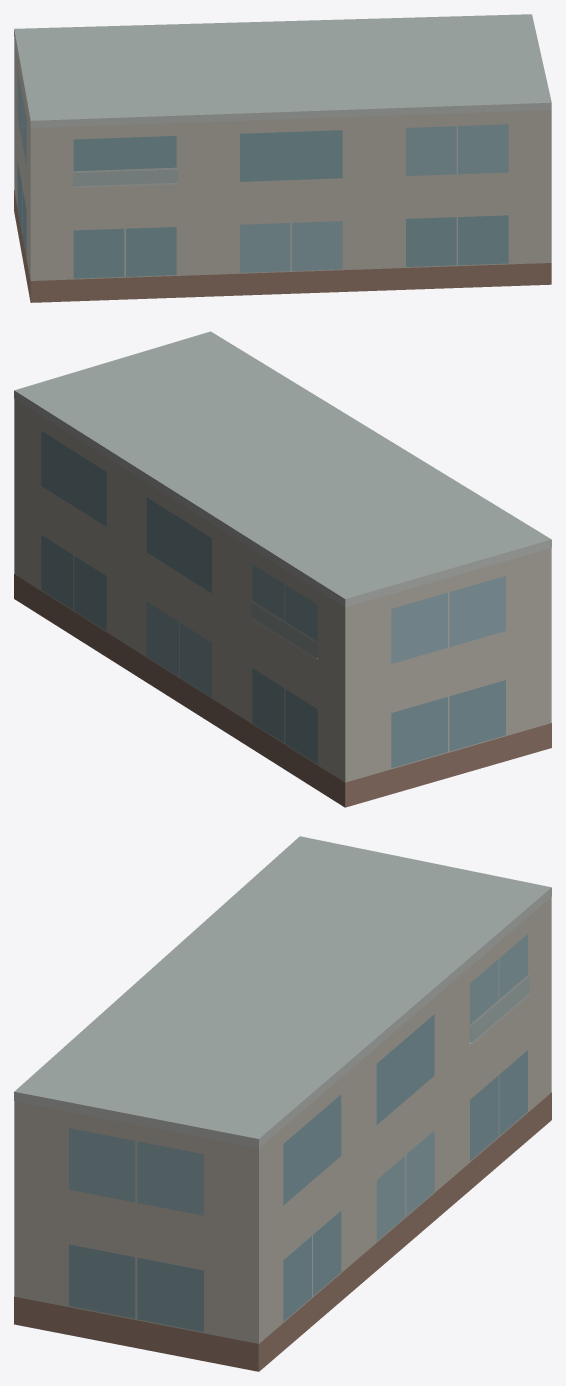
Rendered from survey-upis-32951770.glb.
The picture shows the model from 3 angles, top to bottom: view 1: azimuth 30°, elevation 25°; view 2: azimuth 150°, elevation 25°; view 3: azimuth 270°, elevation 25°; orthographic projection. The views are drawn at different scales.
Parts seen in each view (by area): view 1: survey-upis-32951770.tmp; view 2: survey-upis-32951770.tmp; view 3: survey-upis-32951770.tmp.
Part boxes in pixels (box(x1,y1,x2,y2)): survey-upis-32951770.tmp: box(14, 14, 551, 302); survey-upis-32951770.tmp: box(14, 331, 551, 807); survey-upis-32951770.tmp: box(14, 836, 551, 1371).
Size of the model in its own units: 17.04 by 6.1 by 12.78.
